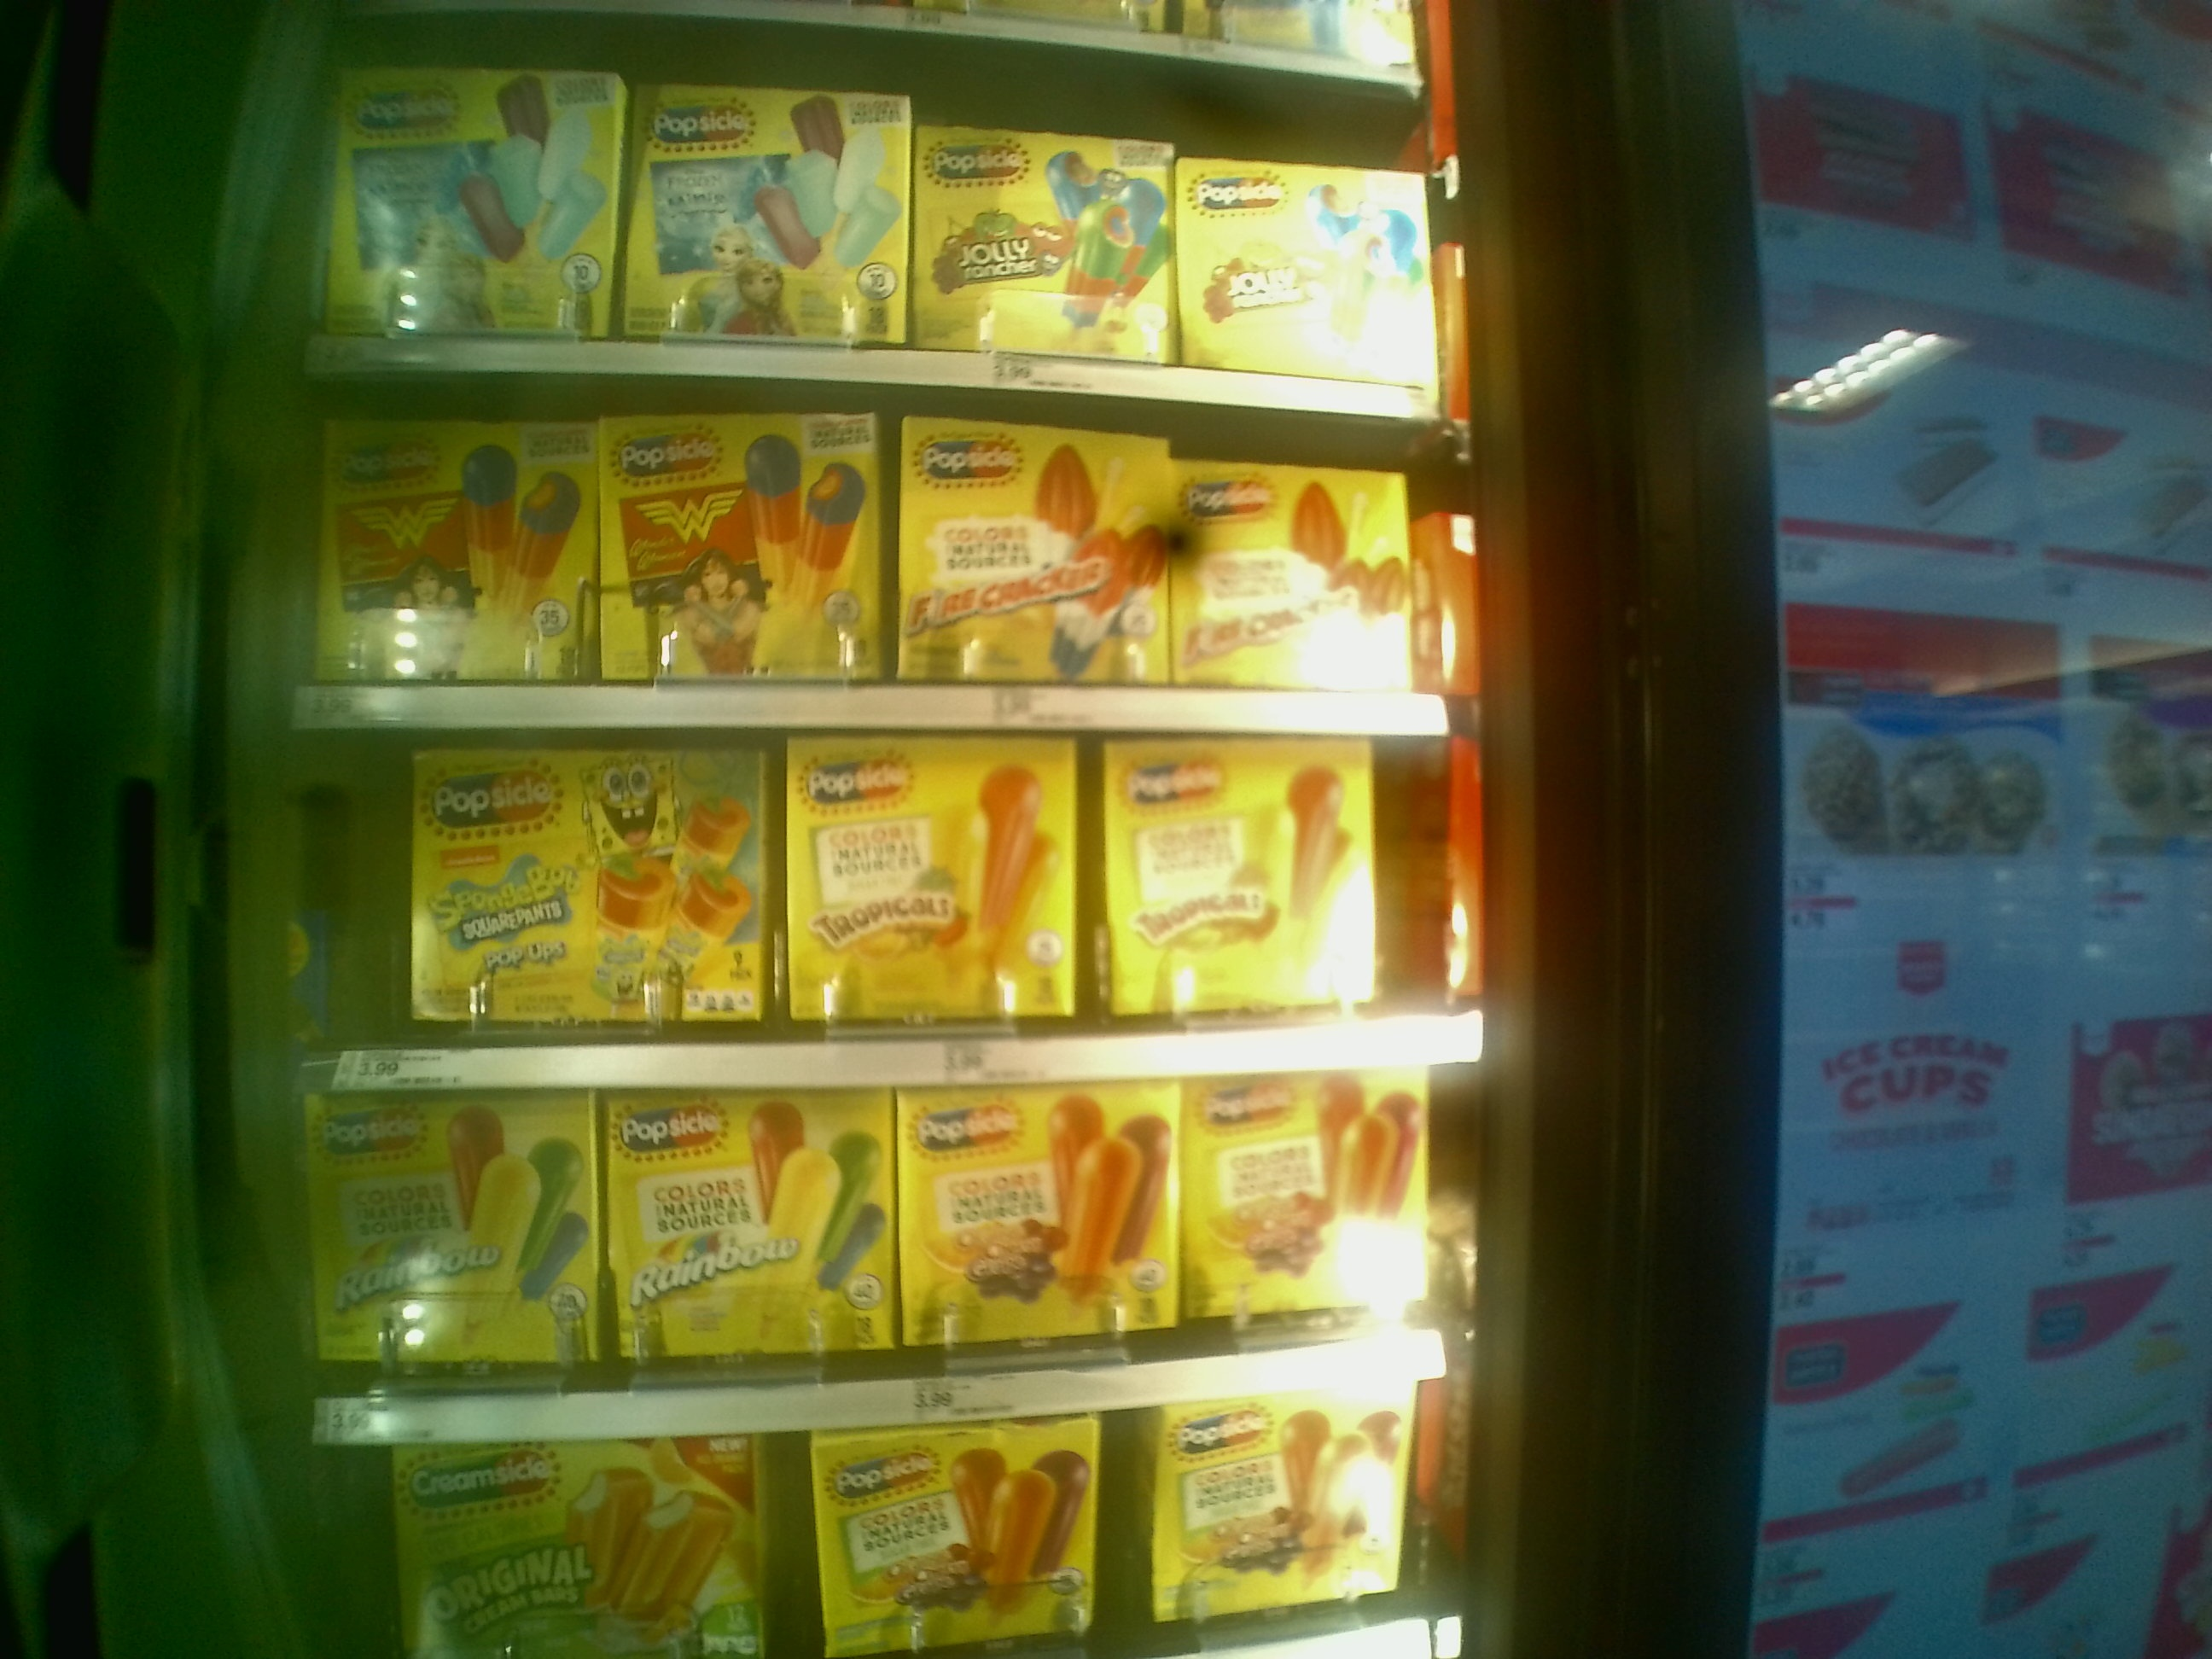shelf: (305, 718, 1470, 1082), (296, 373, 1453, 730), (301, 1093, 1453, 1443)
